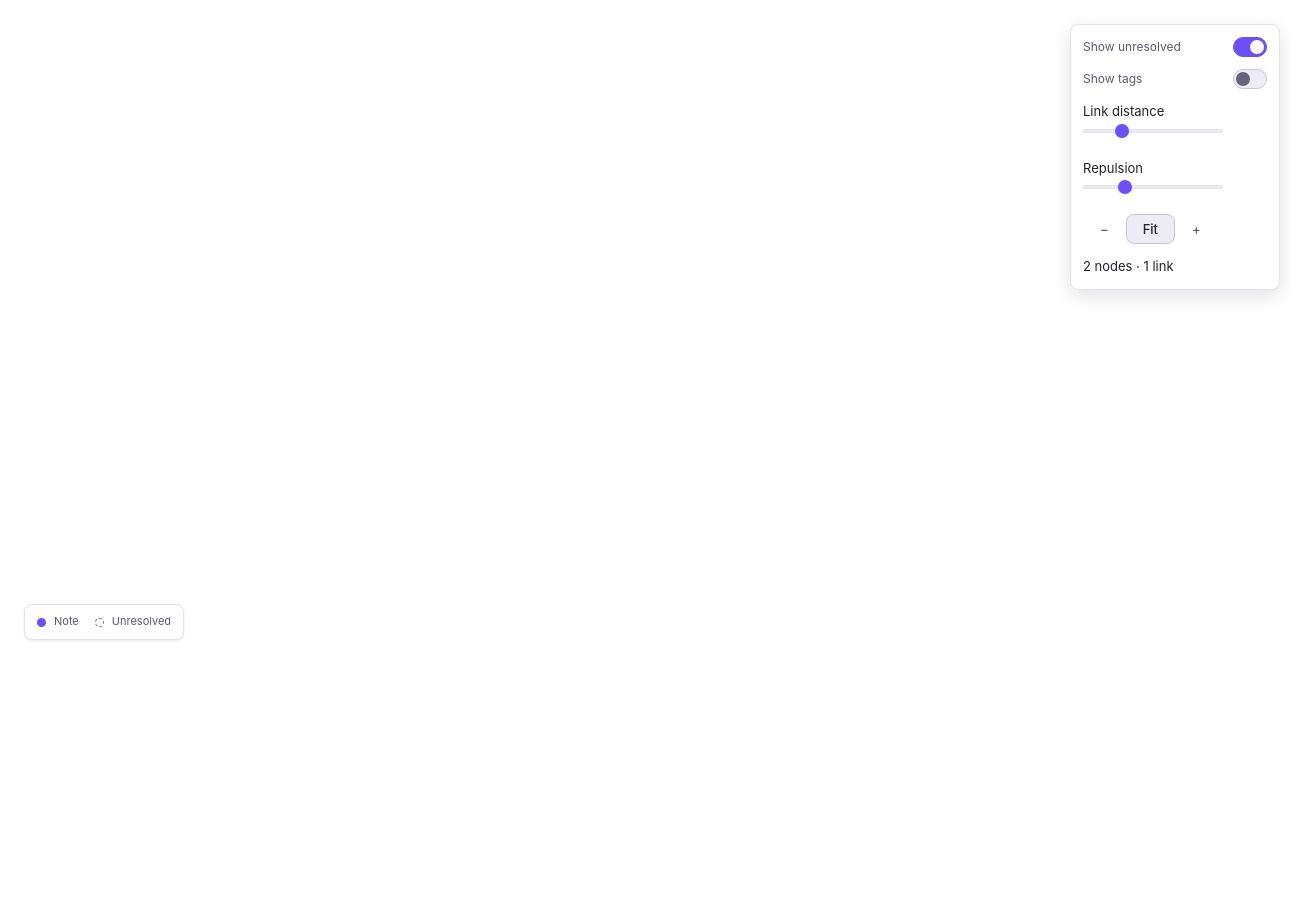
Test case: GraphView › writes "show unresolved" to settings and drops the placeholder node
Step 1. Click the checkbox labelled "Show unresolved" → [1250, 47], box [1233,37,1267,57]
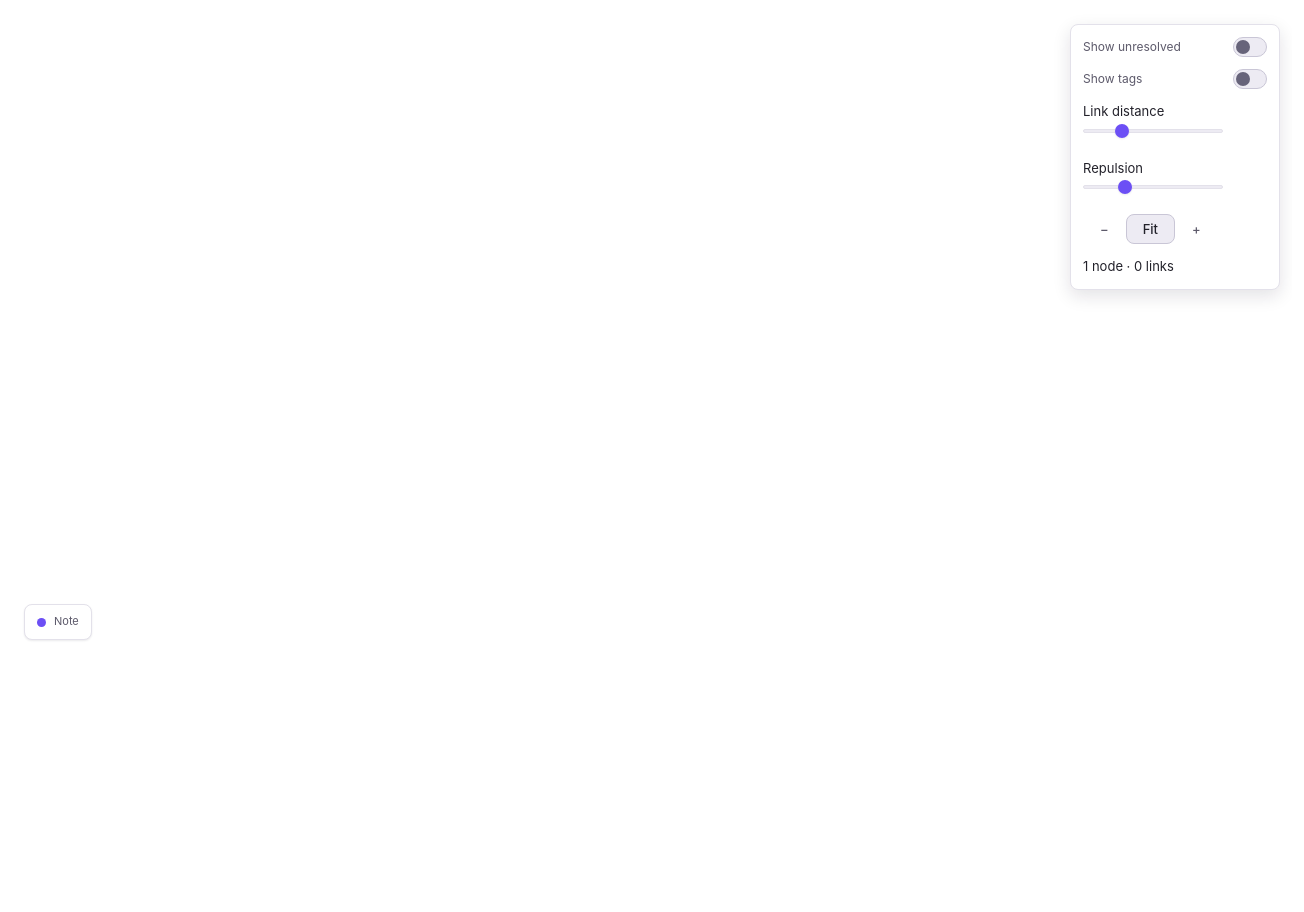
Result: the text "1 node · 0 links" is shown at [1083,258,1174,274]
